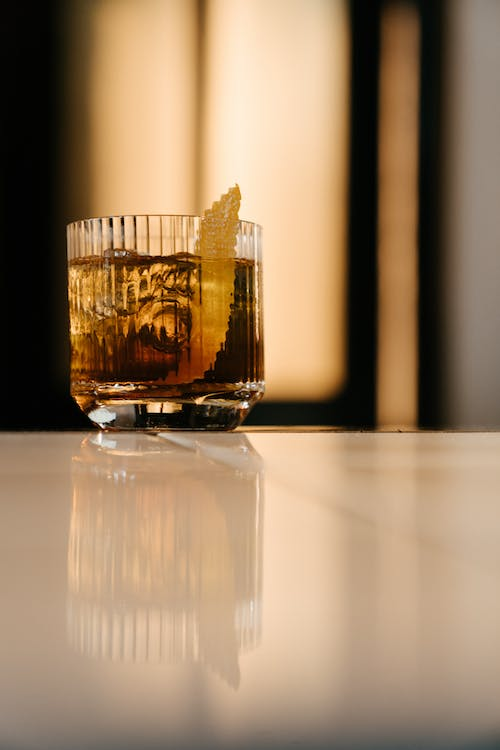alcohol: (63, 212, 267, 429)
